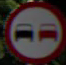No overtake: (6, 7, 61, 56)
